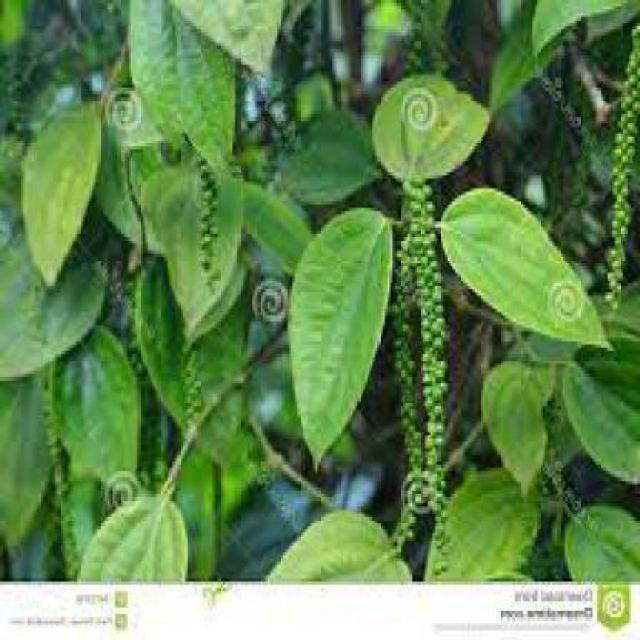UNRIPE: (398, 172, 451, 514), (597, 30, 640, 299), (40, 368, 80, 552), (185, 163, 220, 306), (183, 339, 212, 442)
